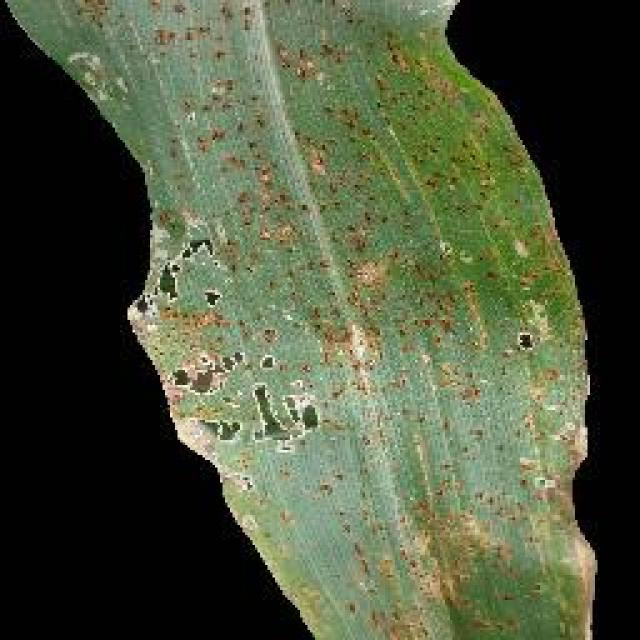Corn Common Rust: (142, 22, 640, 640)
